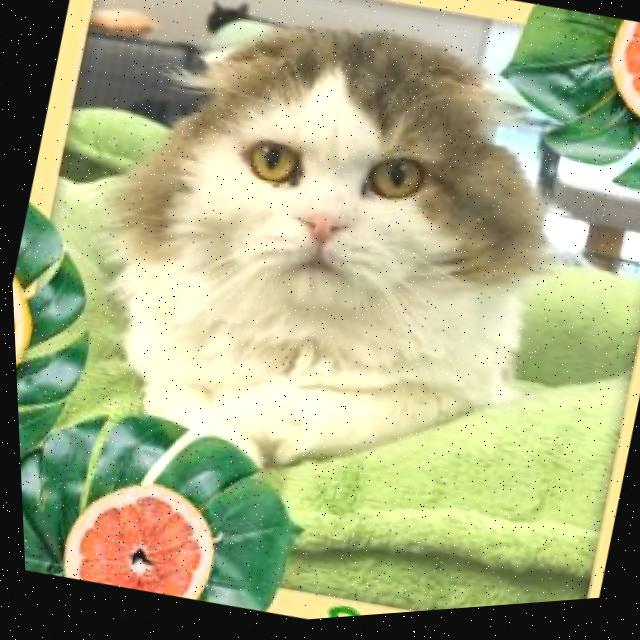Scottish Fold: (44, 0, 602, 538)
